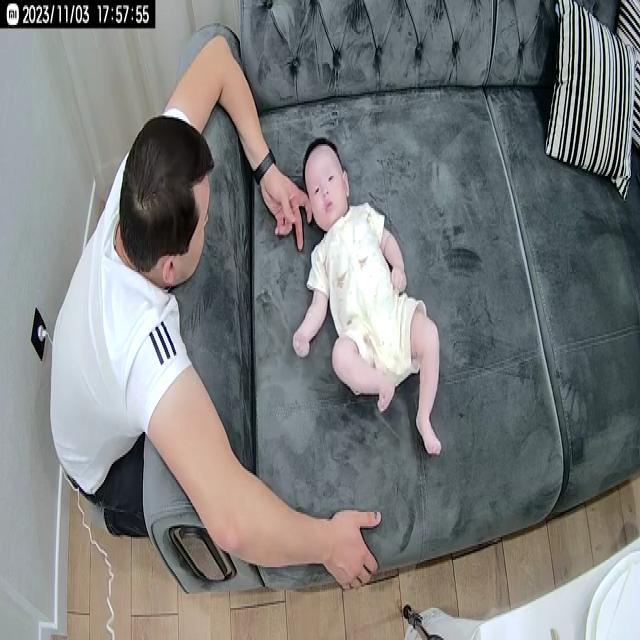baby: (293, 135, 447, 462)
